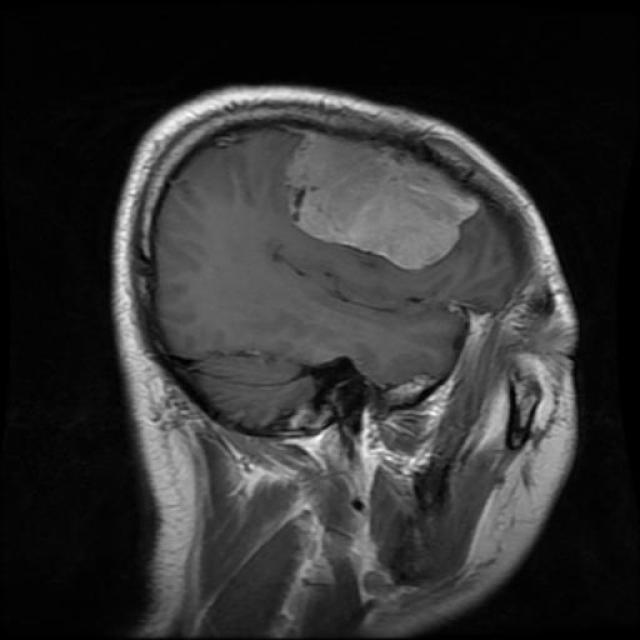meningioma: (286, 135, 480, 271)
